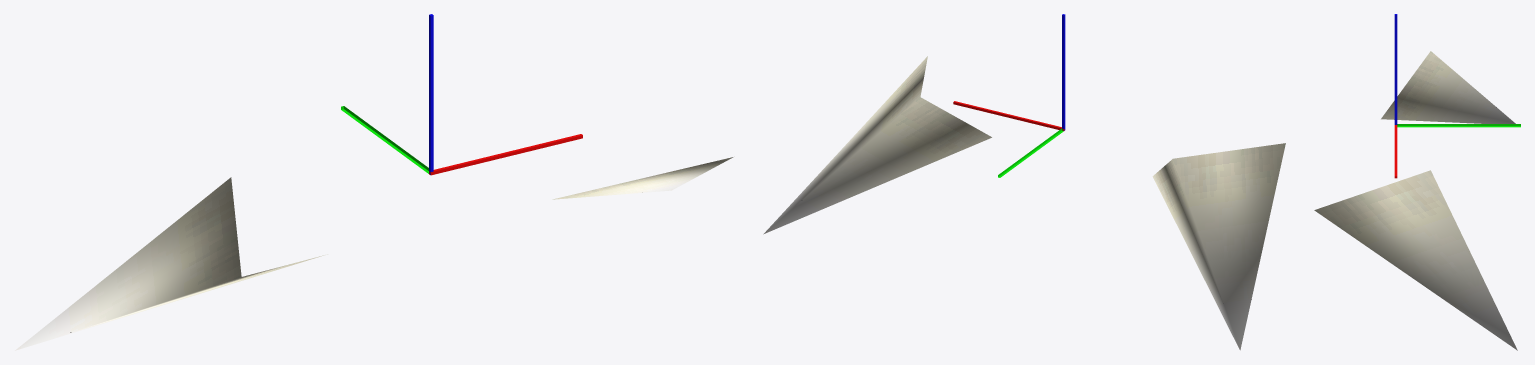
The model's file is tusks.glb.
3 views of the same model, side by side, from view 1: azimuth 30°, elevation 25°; view 2: azimuth 150°, elevation 25°; view 3: azimuth 270°, elevation 25° (orthographic). The views are drawn at different scales.
Parts seen in each view (by area): view 1: cavalry e war elephant tusks standardModel, Dummy_hotspot, Dummy_chin; view 2: cavalry e war elephant tusks standardModel, Dummy_hotspot; view 3: cavalry e war elephant tusks standardModel, Dummy_hotspot, Dummy_chin.
Boxes of the visible parts, x1=… form: cavalry e war elephant tusks standardModel: x1=15, y1=157, x2=733, y2=350; Dummy_hotspot: x1=341, y1=14, x2=582, y2=175; Dummy_chin: x1=341, y1=15, x2=582, y2=174; cavalry e war elephant tusks standardModel: x1=763, y1=56, x2=1285, y2=350; Dummy_hotspot: x1=953, y1=14, x2=1065, y2=177; cavalry e war elephant tusks standardModel: x1=1314, y1=51, x2=1517, y2=350; Dummy_hotspot: x1=1394, y1=14, x2=1520, y2=178; Dummy_chin: x1=1394, y1=124, x2=1520, y2=178.
Size of the model in its own units: 1.08 by 0.5 by 0.418.
2 materials, 1 textured.
